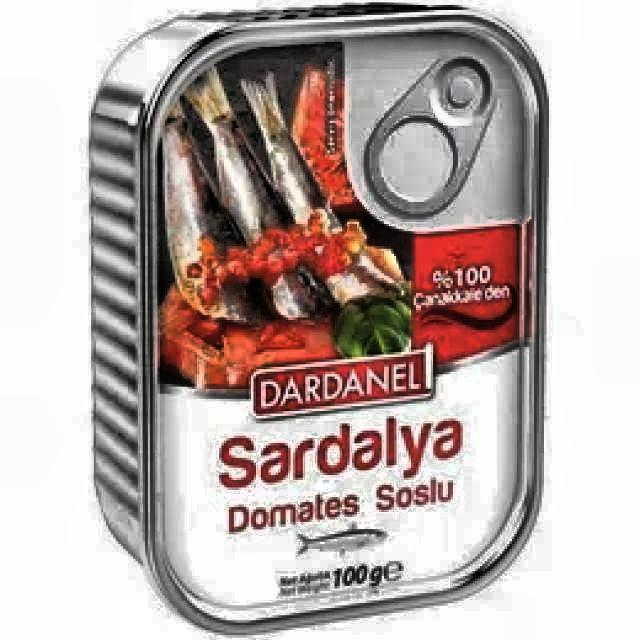metal: (88, 0, 550, 638)
